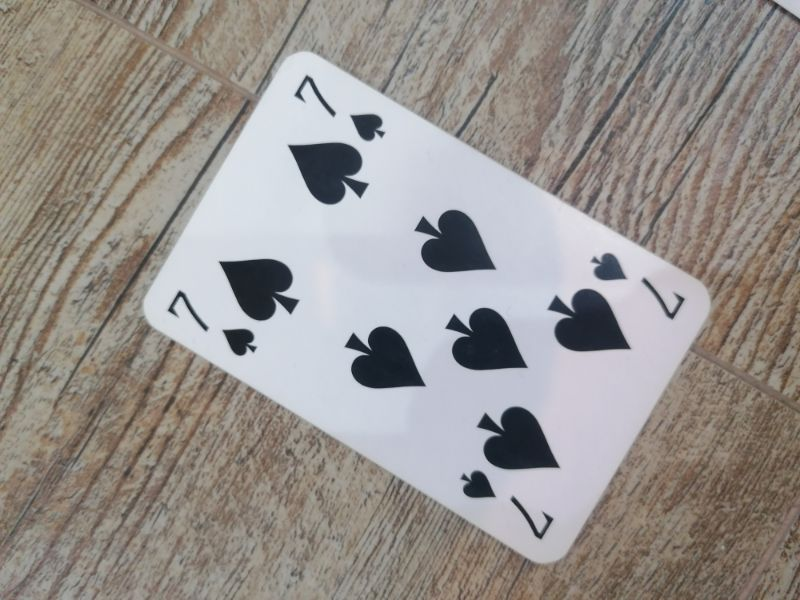7s: (164, 287, 262, 363), (588, 251, 688, 325), (293, 71, 391, 146), (457, 468, 556, 542)
